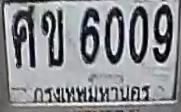0: (104, 6, 124, 64), (128, 5, 148, 63)
6: (80, 7, 100, 64)
9: (153, 4, 172, 62)
A02: (41, 8, 63, 66)
A38: (11, 6, 35, 68)
BKK: (30, 83, 154, 108)
